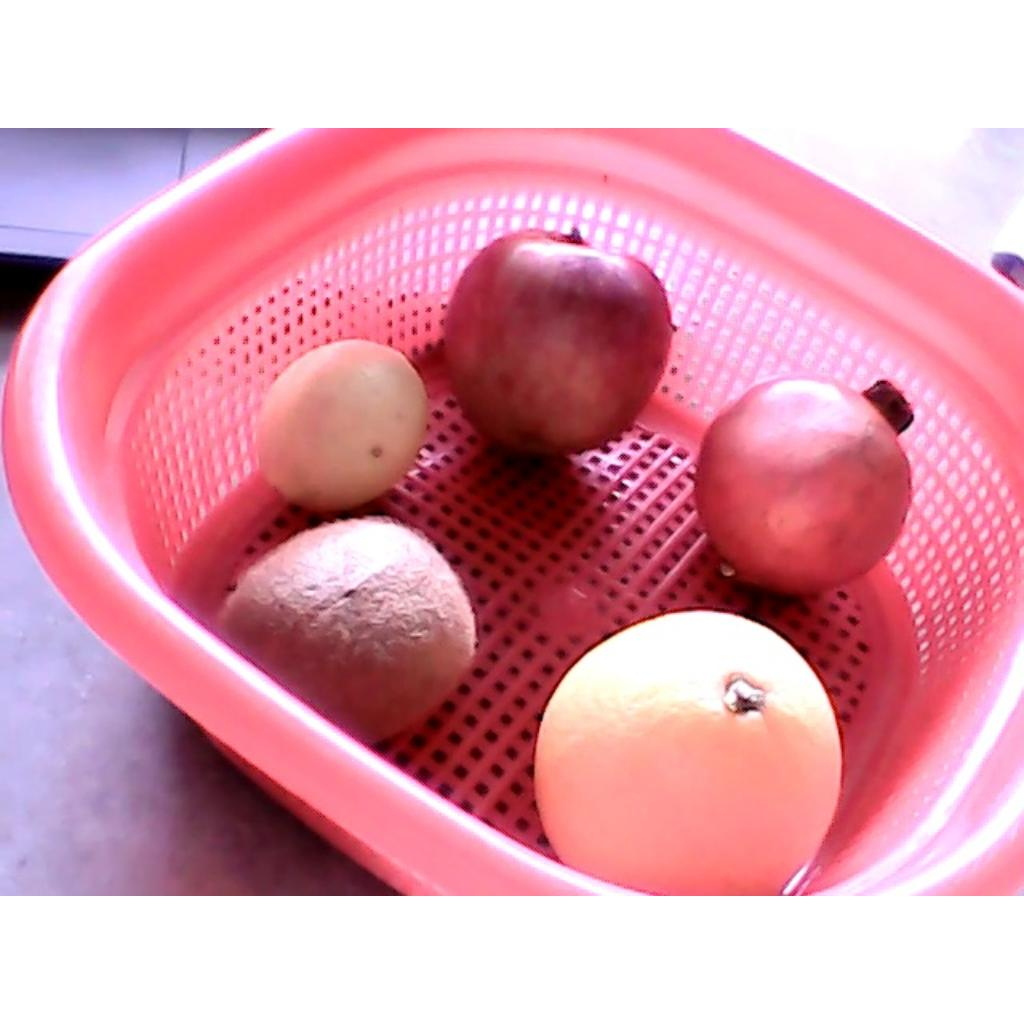apple: (440, 229, 676, 457)
kiwi: (211, 518, 476, 748)
lemon: (253, 339, 427, 512)
orange: (534, 609, 842, 894)
pomegranate: (694, 376, 915, 596)
